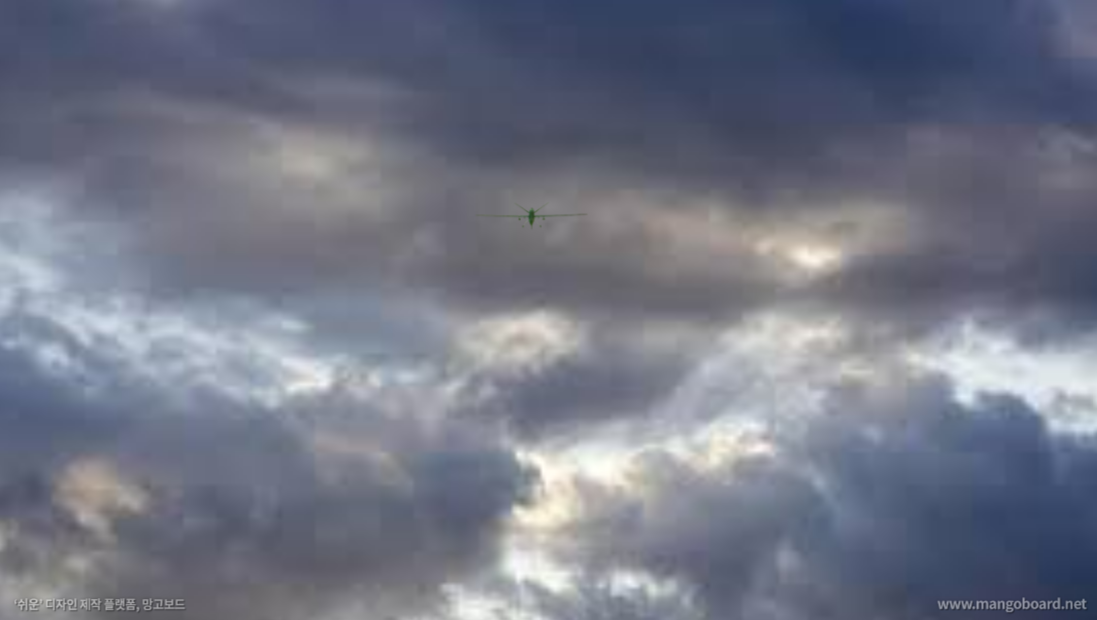military drone: (471, 202, 587, 230)
